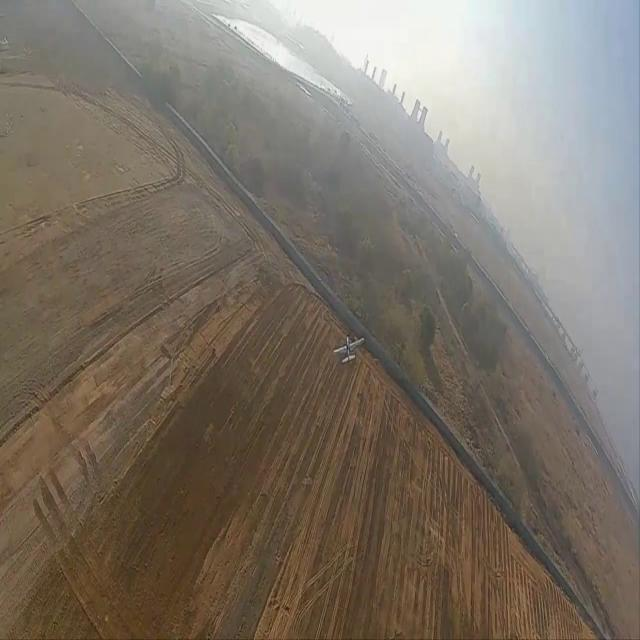iha: (332, 328, 365, 366)
